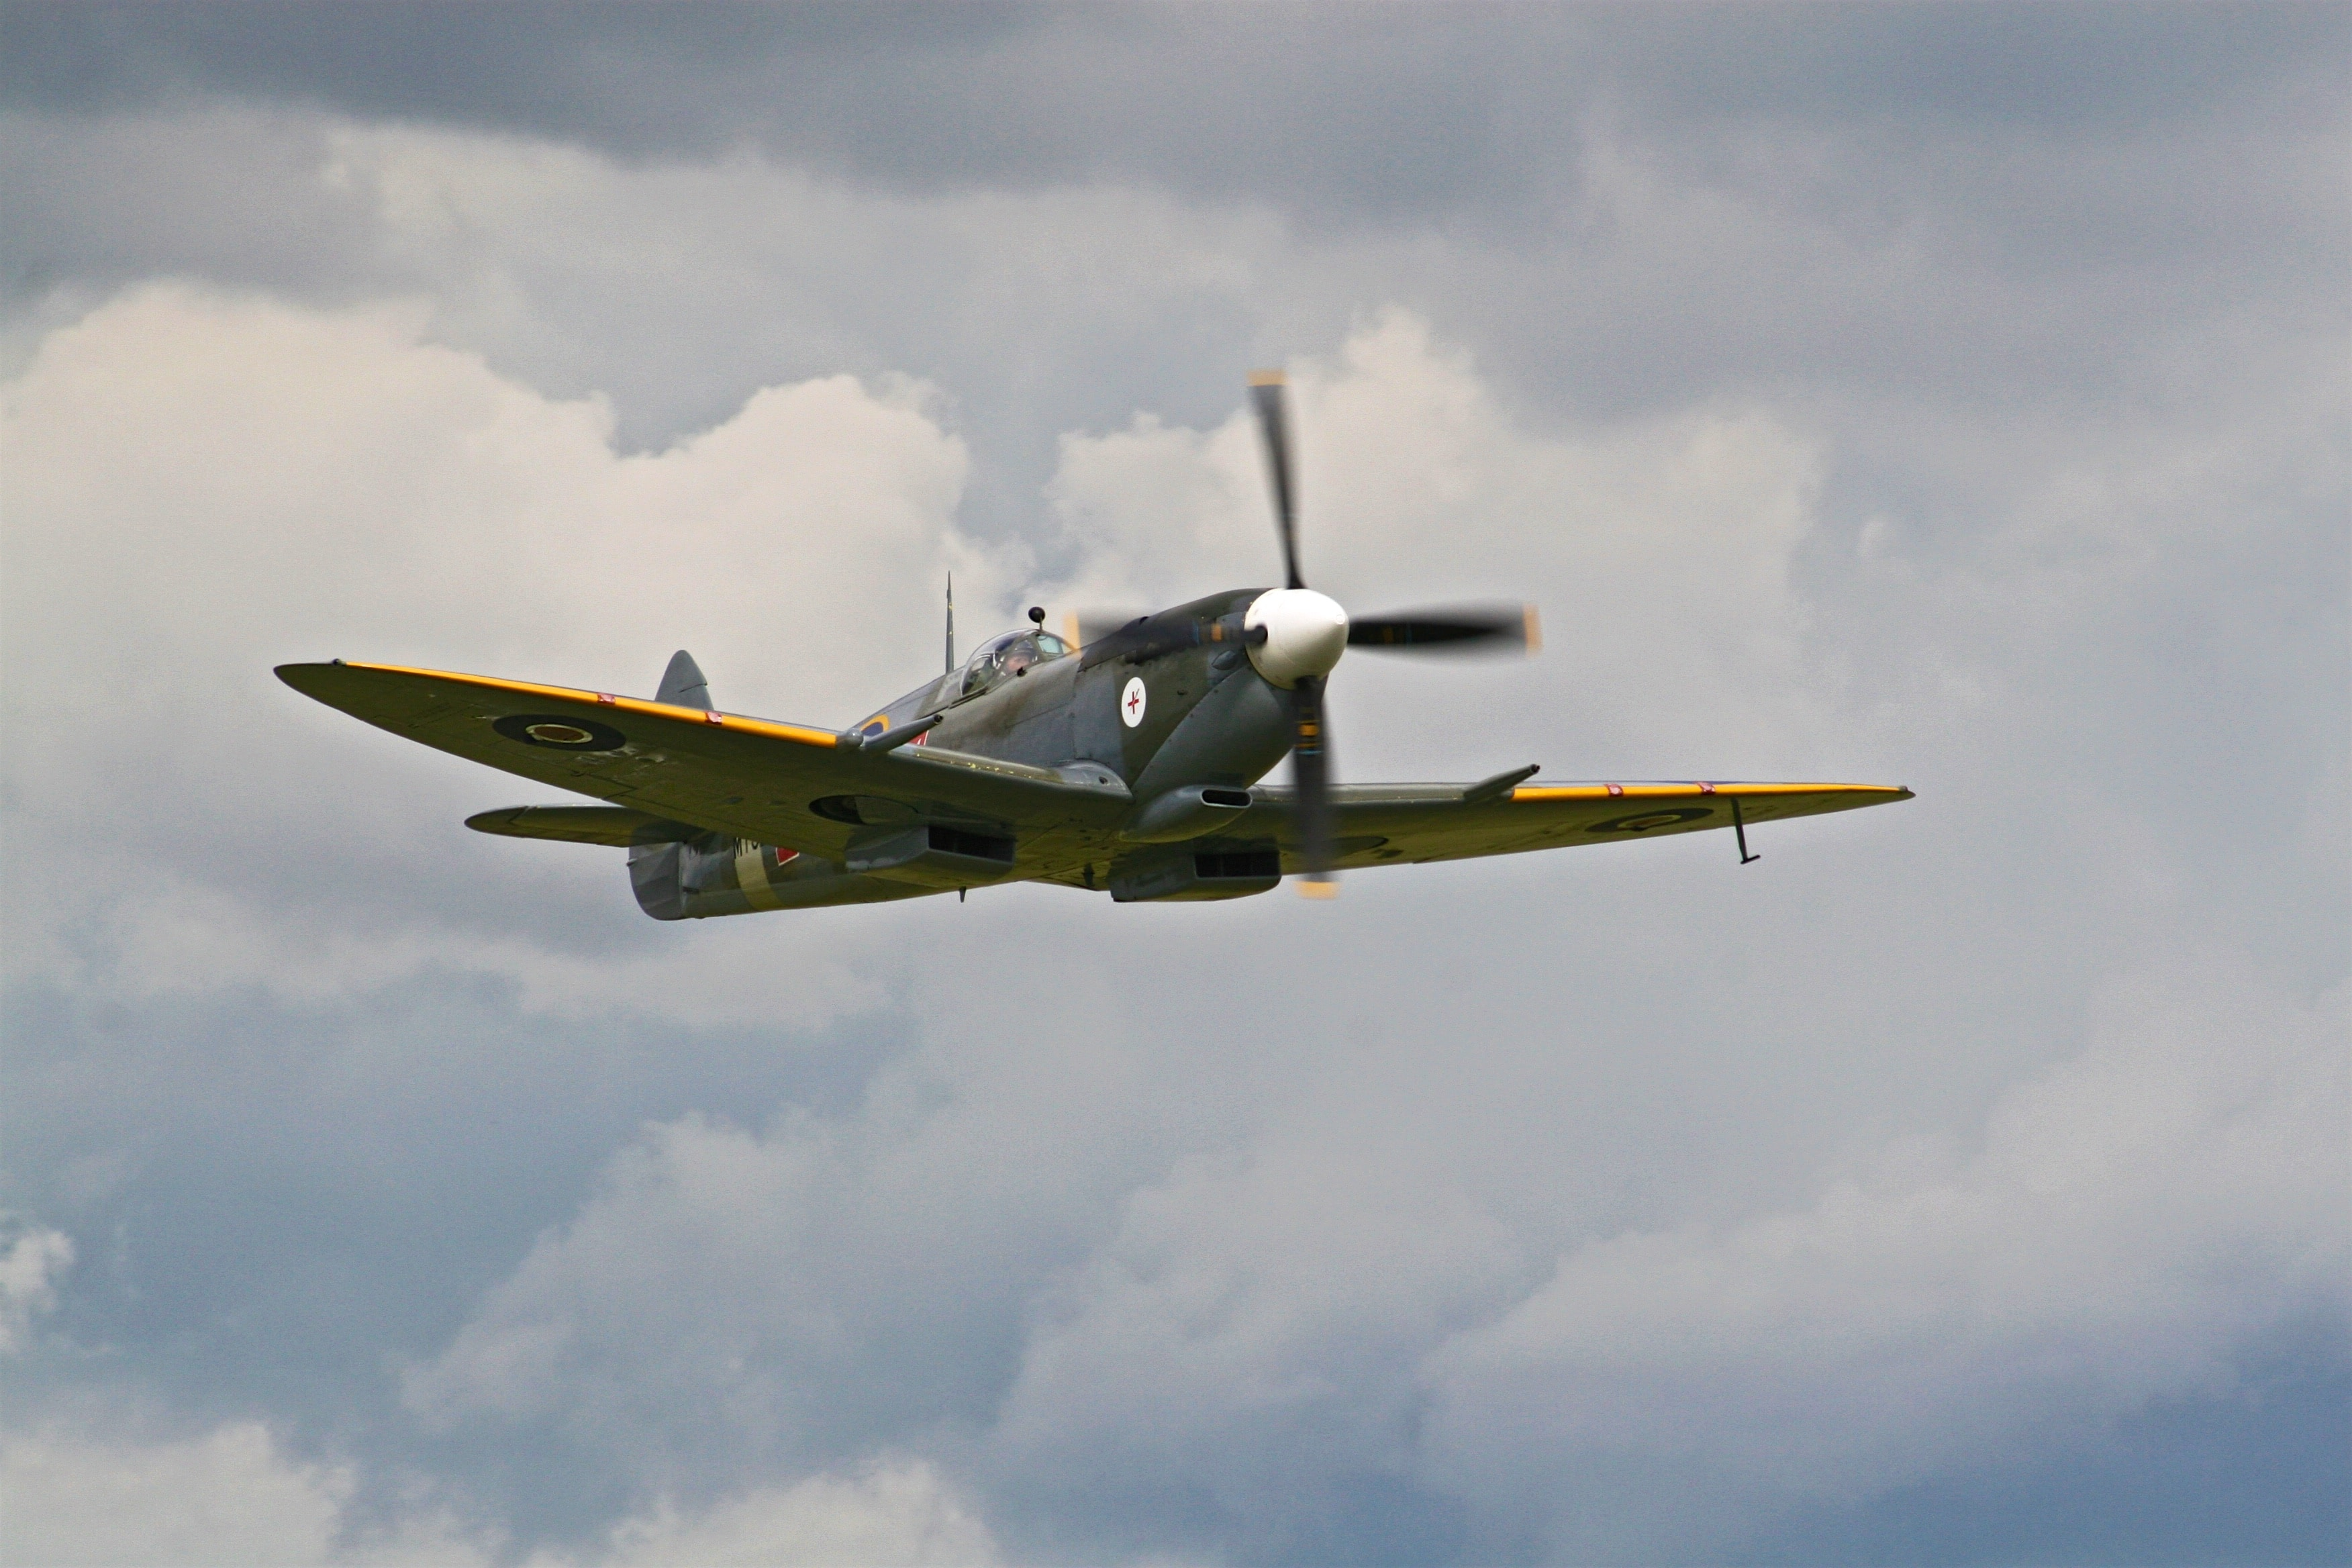airplane: (138, 311, 2112, 1055)
